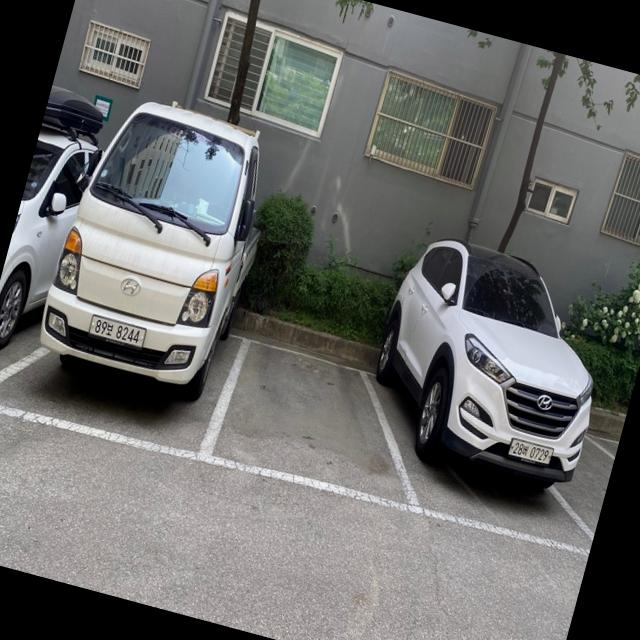car: (353, 226, 633, 511), (41, 89, 282, 403)
free: (197, 334, 426, 521)
